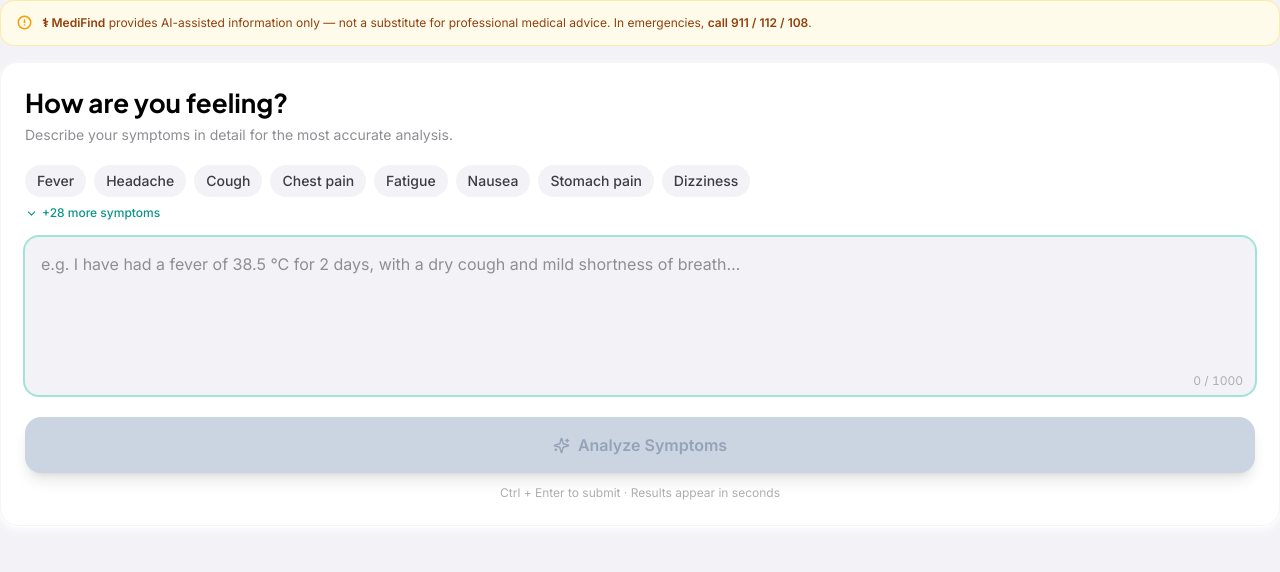
SymptomInput › submit button is disabled until at least 3 characters are entered
Check: the button "Analyze Symptoms" is disabled, box 25,417 -> 1255,473
Type "ab" into the text box named "Symptom description" at (640, 316), box 25,237 -> 1255,395
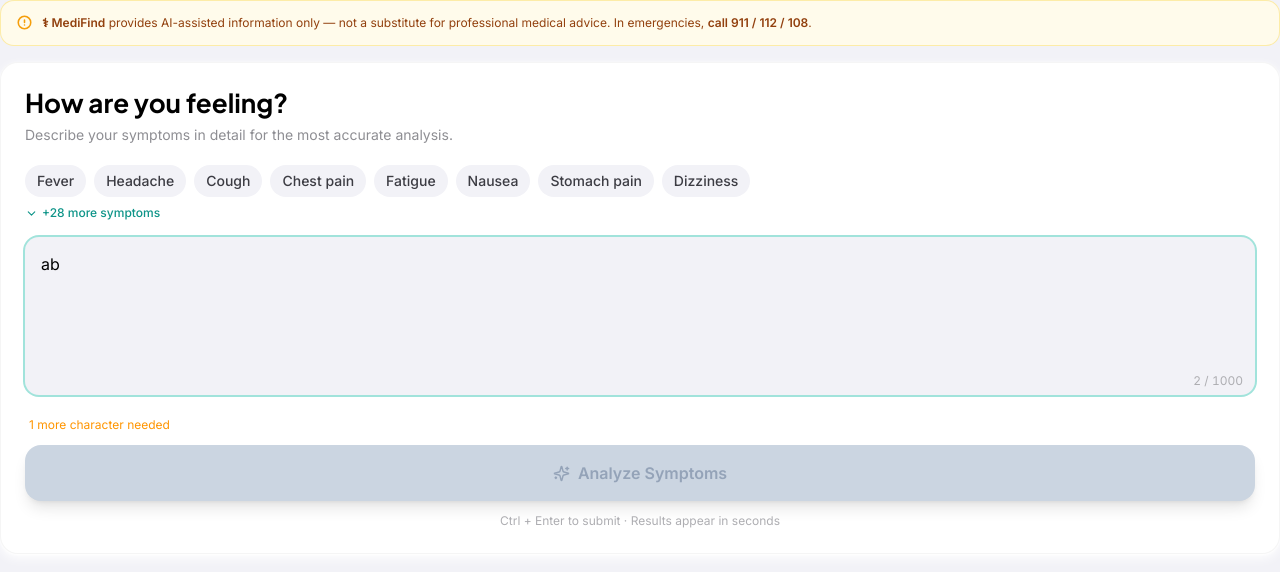
Check: the button "Analyze Symptoms" is disabled, box 25,445 -> 1255,501
Type "c" into the text box named "Symptom description" at (640, 316), box 25,237 -> 1255,395
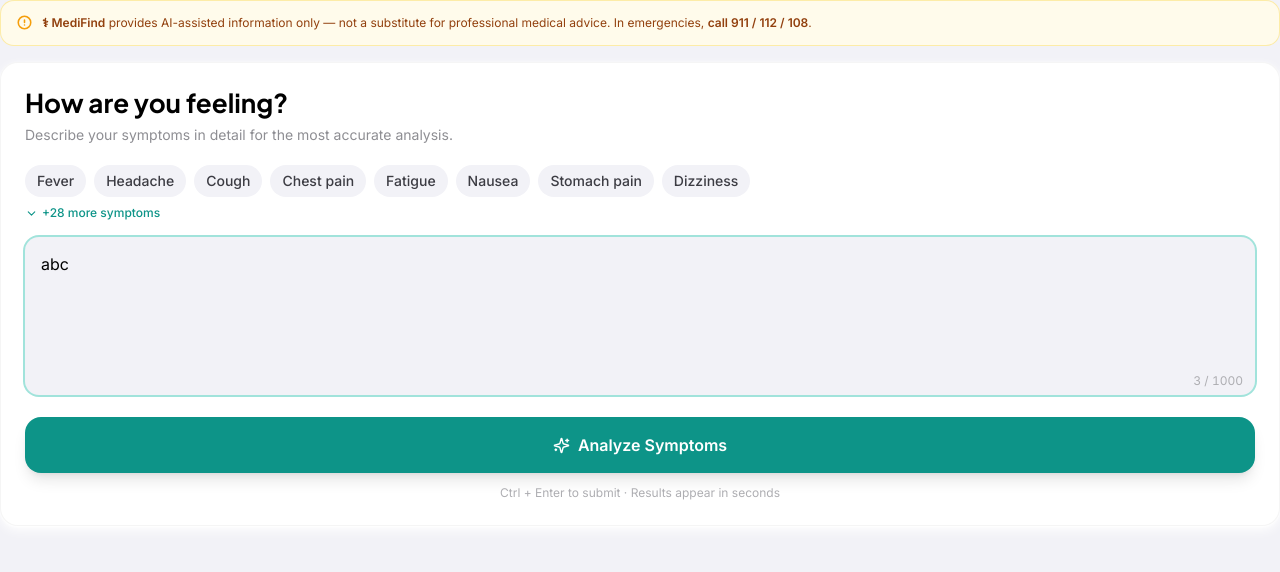
Check: the button "Analyze Symptoms" is enabled, box 25,417 -> 1255,473
